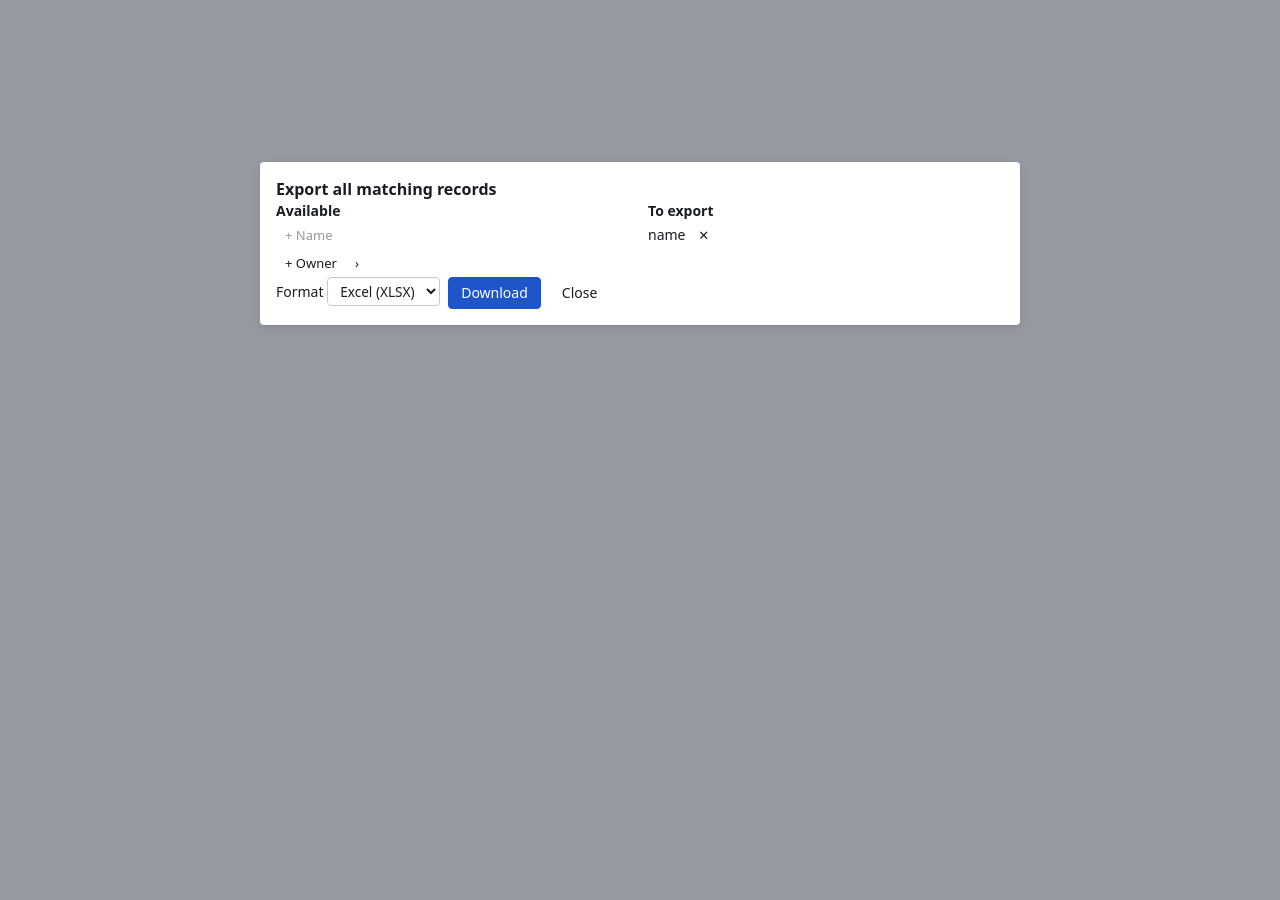
palette, import and export › exports chosen fields and reports dropped ones
Click the button "+ Owner" at (311, 263), box [276,249,346,277]
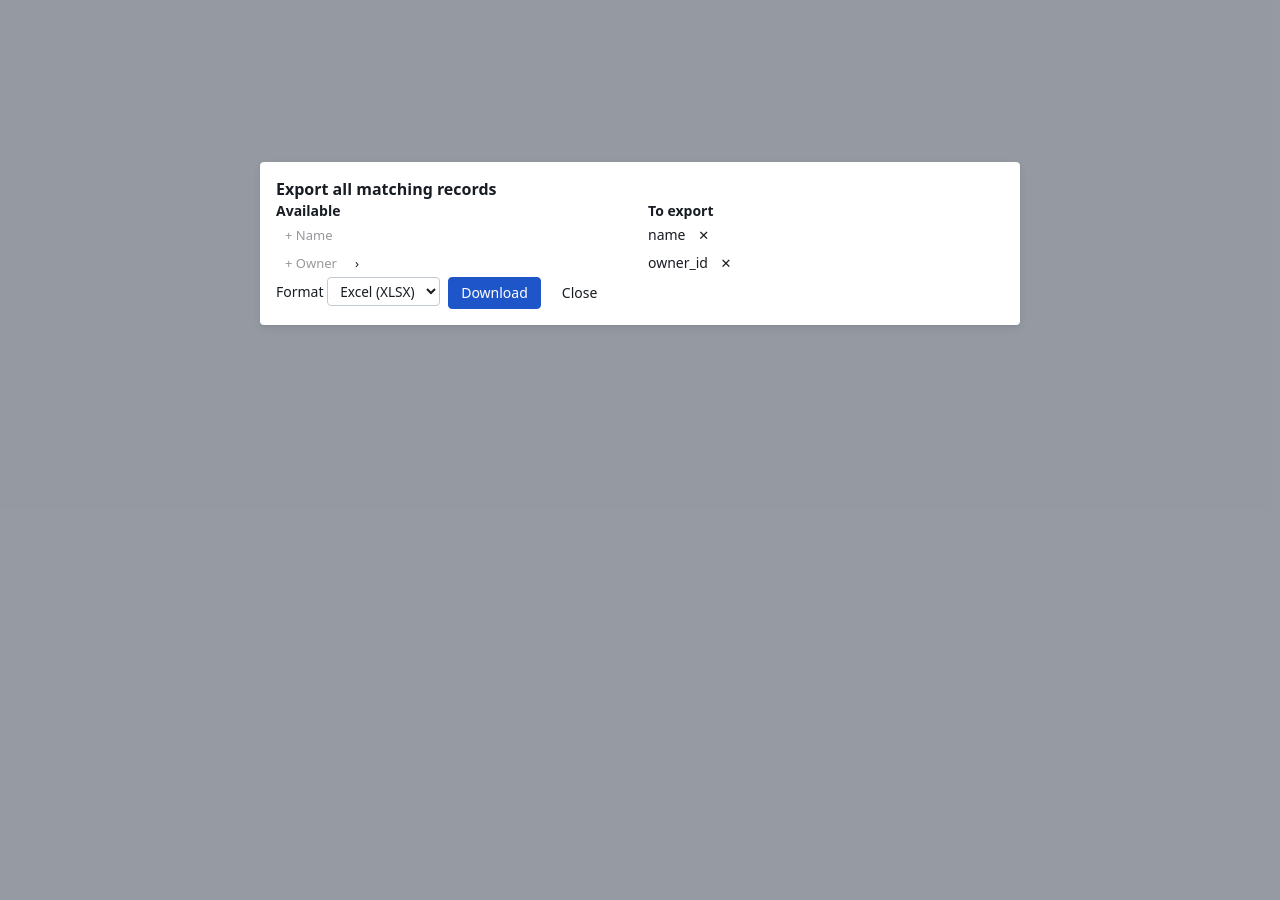
Click the button "Download" at (494, 293), box [448,277,541,309]
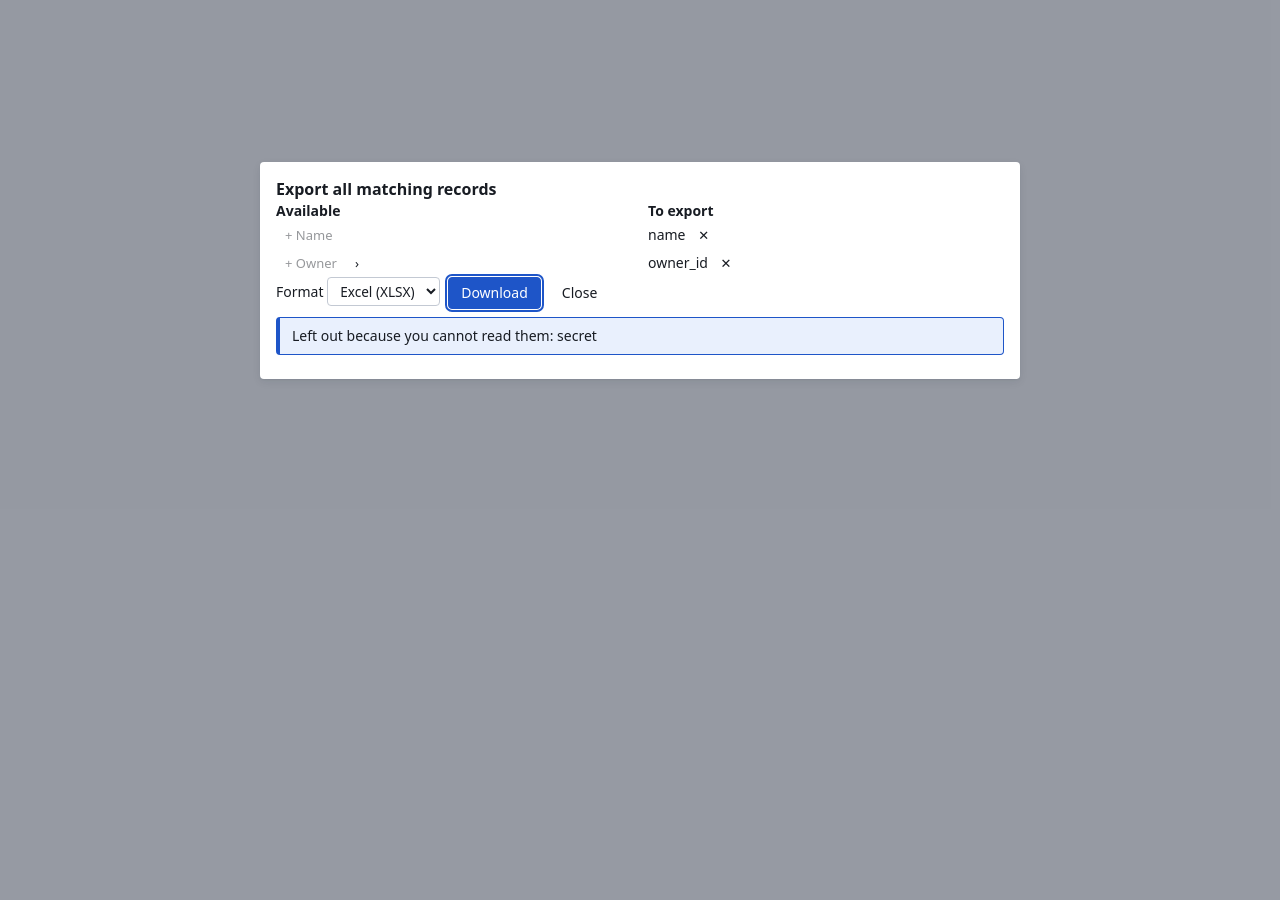
expect the text "Left out because you cannot read them: secret" is shown: met, box [276,317,1004,355]
